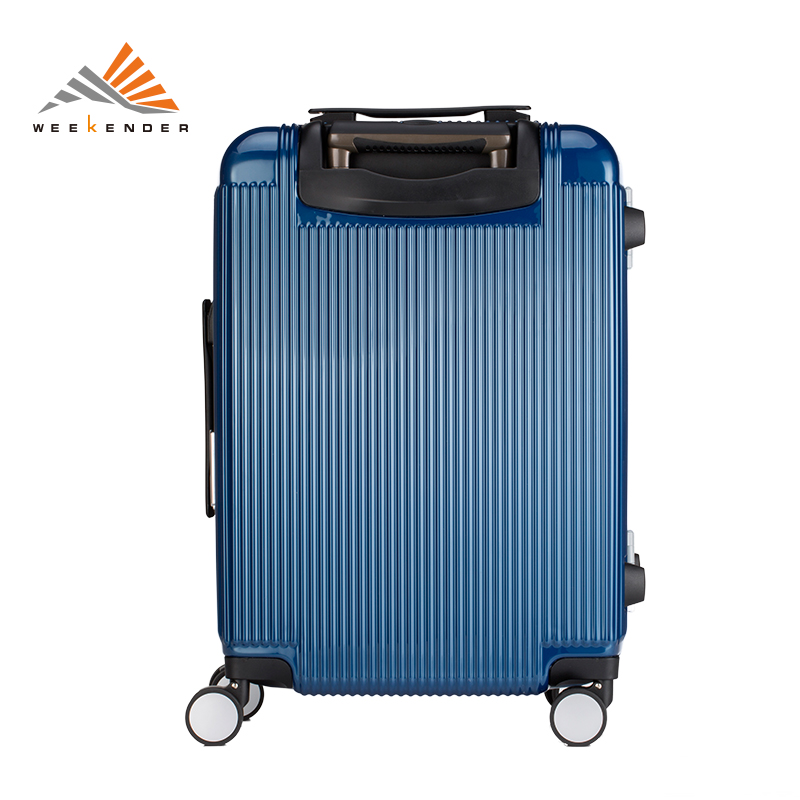suitcase: (187, 105, 646, 753)
